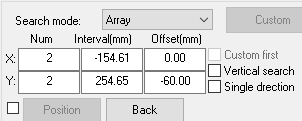timer: (144, 31, 207, 94)
